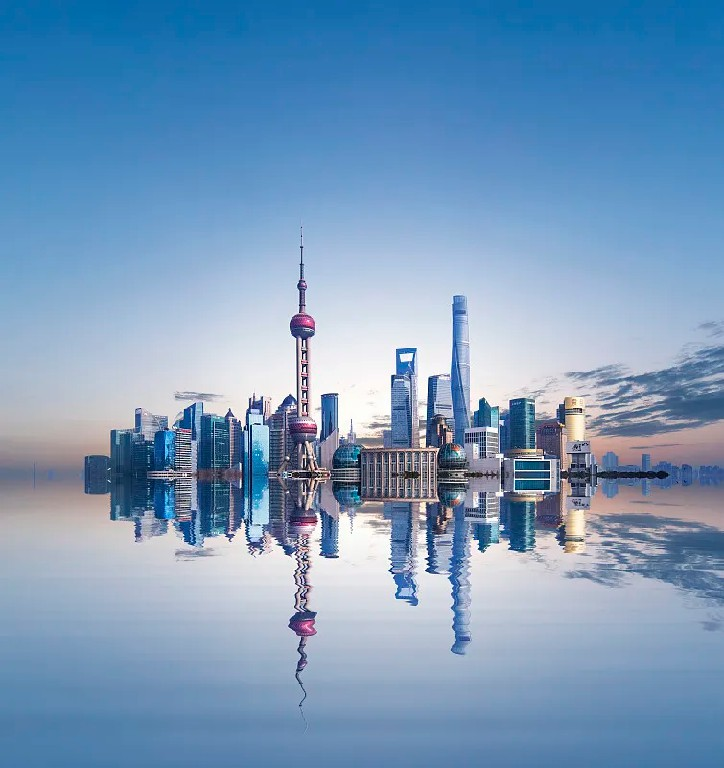Oriental: (275, 222, 328, 475)
